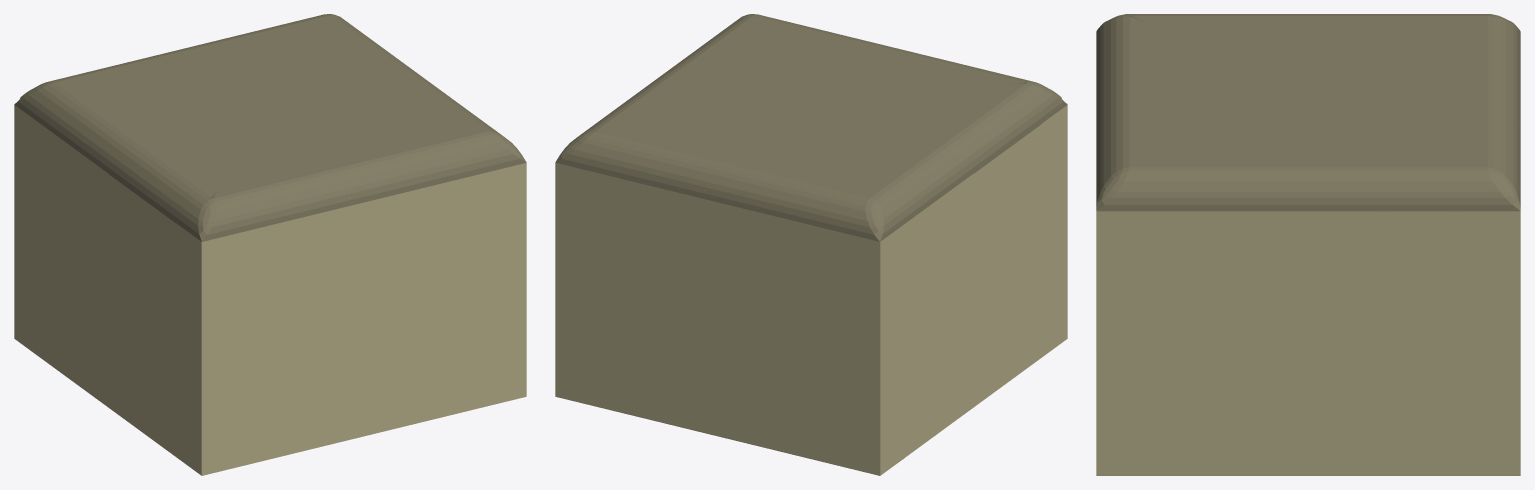
File: BaseBlock.fbx
3 views of the same model, side by side, from view 1: azimuth 30°, elevation 25°; view 2: azimuth 150°, elevation 25°; view 3: azimuth 270°, elevation 25° (orthographic). The views are drawn at different scales.
Visible parts, largest first — view 1: 立方体; view 2: 立方体; view 3: 立方体.
Part boxes in pixels (x1,y1,x2,y2): 立方体: (14,14,526,475); 立方体: (555,14,1067,475); 立方体: (1096,14,1520,475).
Size of the model in its own units: 202 by 155 by 202.
